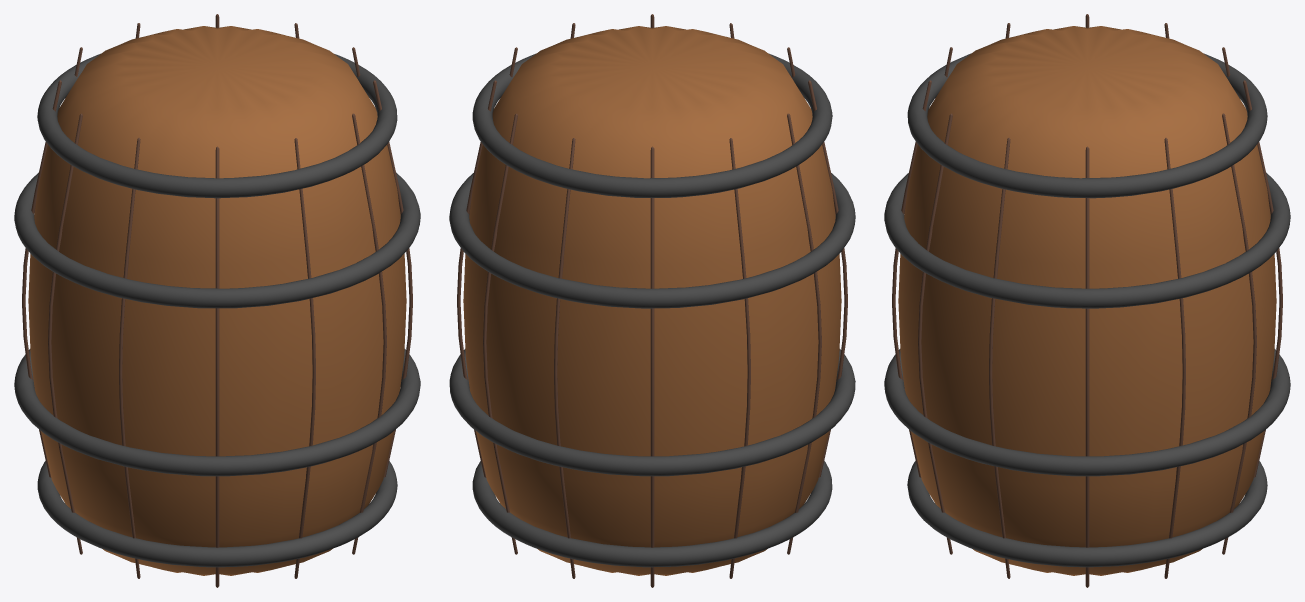
File: deco_barril.glb
3 views of the same model, side by side, from view 1: azimuth 30°, elevation 25°; view 2: azimuth 150°, elevation 25°; view 3: azimuth 270°, elevation 25° (orthographic).
Parts seen in each view (by area): view 1: barril.001, aro barril 2.001, aro barril 3.001, aro barril 1.001, aro barril 0.001, duela 8.001, duela 9.001, duela 7.001, duela 10.001, duela 6.001, duela 5.001, duela 11.001; view 2: barril.001, aro barril 2.001, aro barril 3.001, aro barril 1.001, aro barril 0.001, duela 4.001, duela 3.001, duela 5.001, duela 6.001, duela 2.001, duela 7.001, duela 1.001; view 3: barril.001, aro barril 2.001, aro barril 3.001, aro barril 1.001, aro barril 0.001, duela 0.001, duela 11.001, duela 1.001, duela 10.001, duela 2.001, duela 3.001, duela 9.001.
Part boxes in pixels (x1,y1,x2,y2): barril.001: (28,26,406,575); aro barril 2.001: (14,172,420,308); aro barril 3.001: (37,53,397,198); aro barril 1.001: (14,349,420,476); aro barril 0.001: (37,461,397,567); duela 8.001: (215,146,219,587); duela 9.001: (294,138,315,578); duela 7.001: (119,138,140,578); duela 10.001: (352,113,386,554); duela 6.001: (48,113,82,554); duela 5.001: (22,80,61,477); duela 11.001: (373,80,412,477); barril.001: (463,26,841,575); aro barril 2.001: (449,173,855,308); aro barril 3.001: (472,53,832,197); aro barril 1.001: (449,349,855,476); aro barril 0.001: (472,461,832,567); duela 4.001: (650,146,654,587); duela 3.001: (554,138,575,578); duela 5.001: (729,138,750,578); duela 6.001: (787,113,821,554); duela 2.001: (483,113,517,554); duela 7.001: (808,80,847,477); duela 1.001: (457,80,496,477); barril.001: (898,26,1276,575); aro barril 2.001: (884,172,1290,308); aro barril 3.001: (907,53,1267,198); aro barril 1.001: (884,349,1290,476); aro barril 0.001: (907,461,1267,567); duela 0.001: (1085,146,1089,587); duela 11.001: (989,138,1010,578); duela 1.001: (1164,138,1185,578); duela 10.001: (918,113,952,554); duela 2.001: (1222,113,1256,554); duela 3.001: (1243,80,1282,477); duela 9.001: (892,80,931,477).
Bounding box in the file's own units: 0.4389 × 0.56 × 0.4391.
